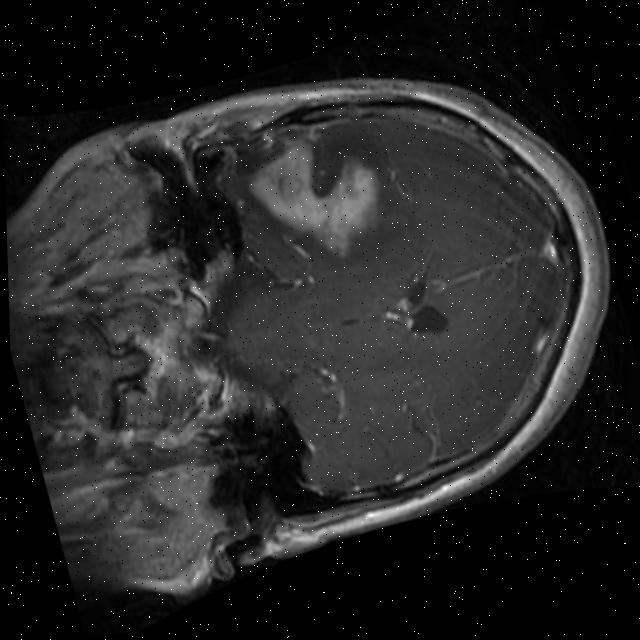Glioma: (235, 113, 399, 283)
